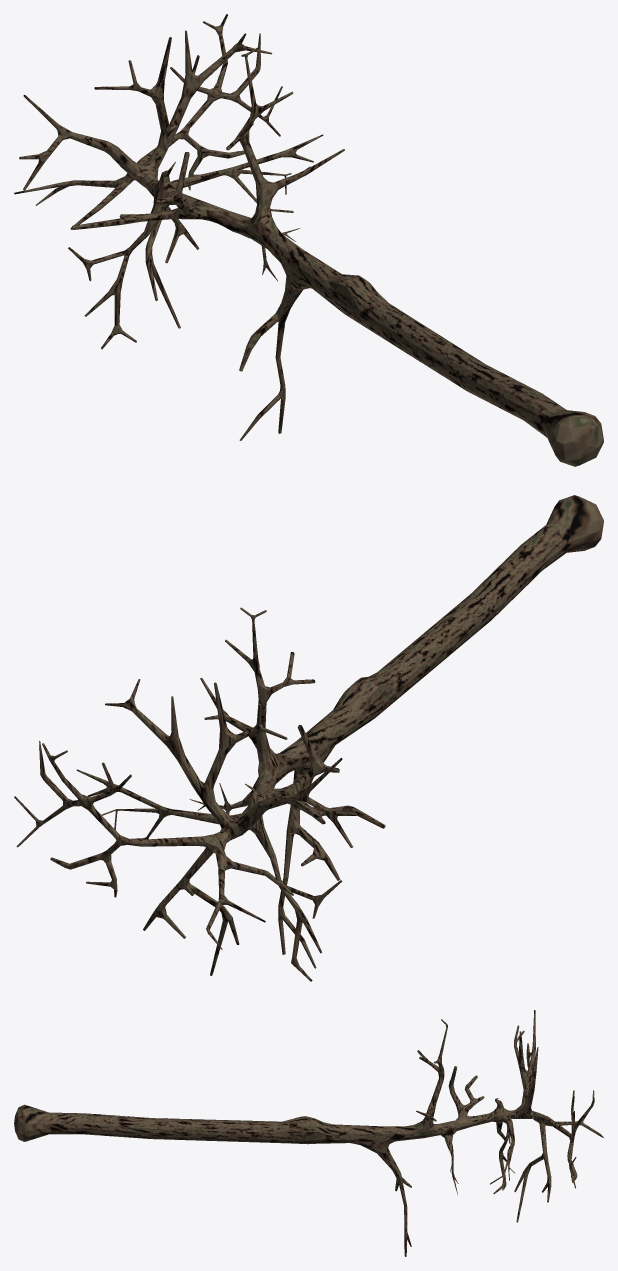
File: arbol.fbx
The picture shows the model from 3 angles, top to bottom: view 1: azimuth 30°, elevation 25°; view 2: azimuth 150°, elevation 25°; view 3: azimuth 270°, elevation 25°; orthographic projection. The views are drawn at different scales.
Parts seen in each view (by area): view 1: arbol.005; view 2: arbol.005; view 3: arbol.005.
Boxes of the visible parts, <box> form: arbol.005: <box>14,14,603,466</box>; arbol.005: <box>14,495,603,981</box>; arbol.005: <box>14,1010,603,1256</box>.
Bounding box in the file's own units: 6.73 × 7.78 × 17.64.
Materials: 1 (1 with a texture image).
